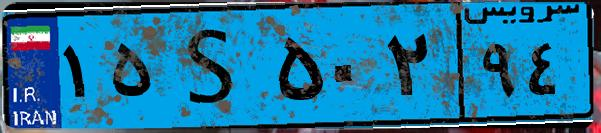0: (330, 28, 385, 110)
1: (57, 26, 110, 100)
2: (385, 28, 445, 110)
4: (525, 38, 570, 115)
5: (270, 28, 330, 110), (110, 28, 158, 98)
9: (475, 38, 525, 113)
S: (158, 12, 270, 120)
